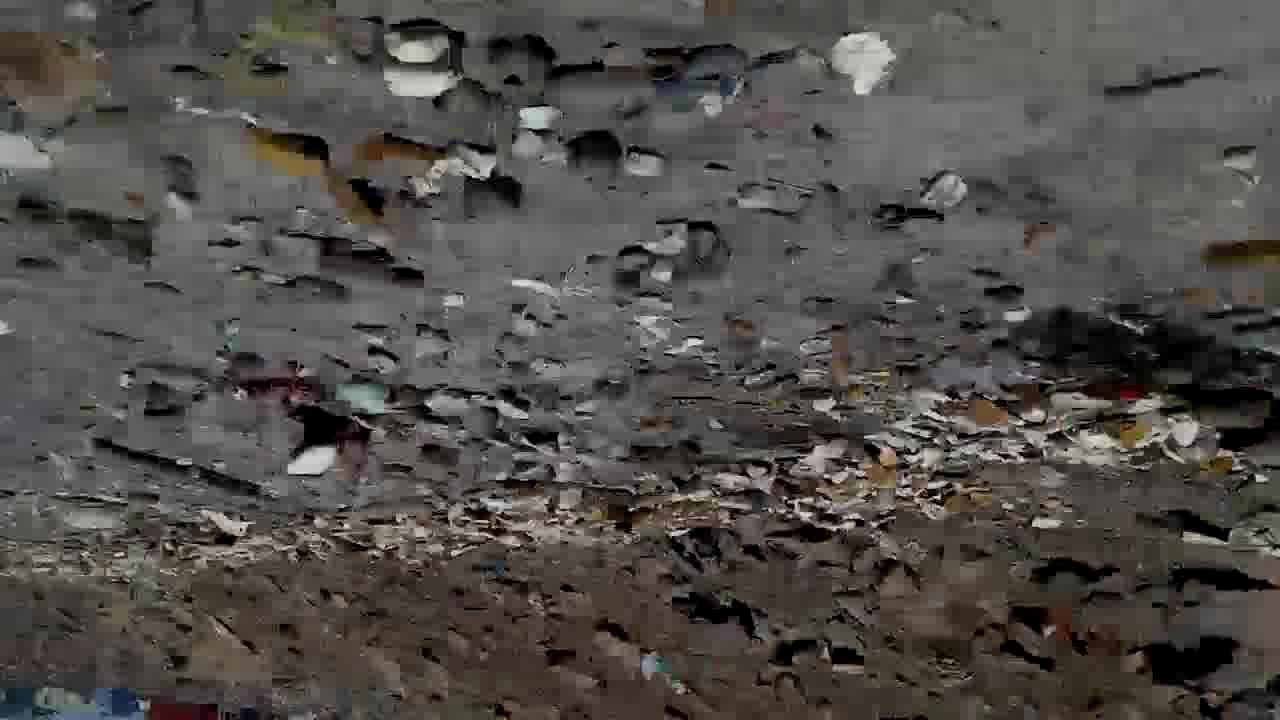large collection of objects: (824, 325, 852, 388)
obj: (782, 389, 1258, 535), (216, 376, 424, 489), (590, 217, 732, 353), (78, 444, 268, 494), (373, 25, 462, 92), (313, 237, 423, 288), (663, 467, 775, 516), (825, 32, 895, 96), (1098, 68, 1216, 104), (562, 136, 630, 194), (350, 133, 440, 176), (788, 440, 865, 487), (248, 130, 330, 174), (463, 176, 524, 226), (321, 176, 382, 222), (1205, 242, 1279, 275), (916, 168, 970, 213), (440, 138, 500, 178), (512, 275, 586, 301), (409, 162, 458, 200), (512, 433, 586, 454), (486, 387, 534, 417), (970, 397, 1011, 430), (624, 150, 666, 181), (1227, 146, 1265, 180), (984, 289, 1024, 321), (516, 106, 568, 130), (1016, 224, 1056, 252), (804, 390, 841, 414), (436, 294, 463, 310), (386, 86, 391, 91), (292, 473, 300, 475)
sand/background: (1, 463, 1279, 719)
